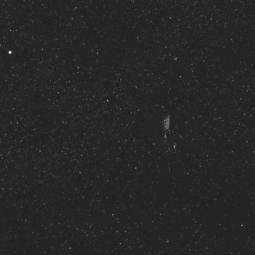debris: (143, 105, 180, 155)
